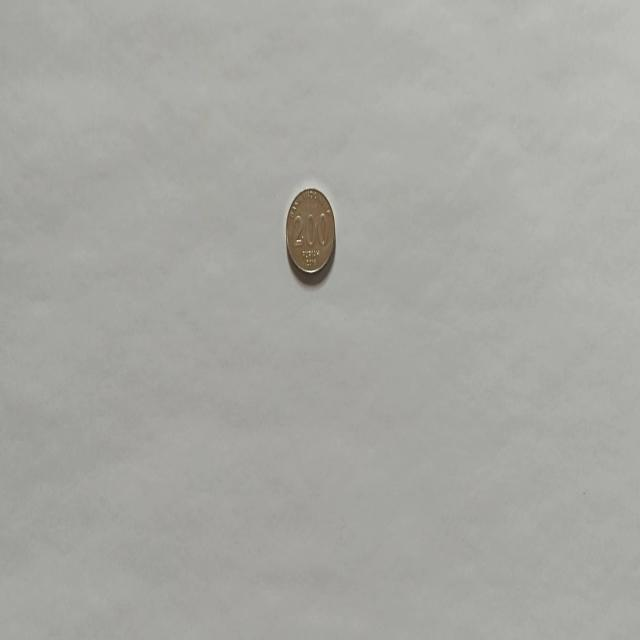dua ratus rupiah: (284, 186, 336, 276)
